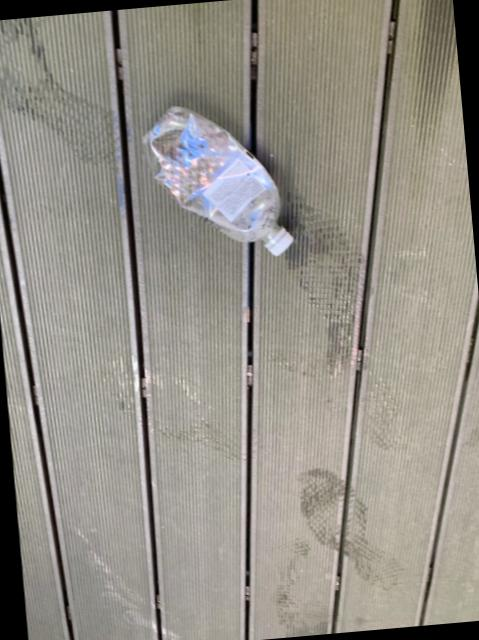plastic: (144, 108, 292, 257)
